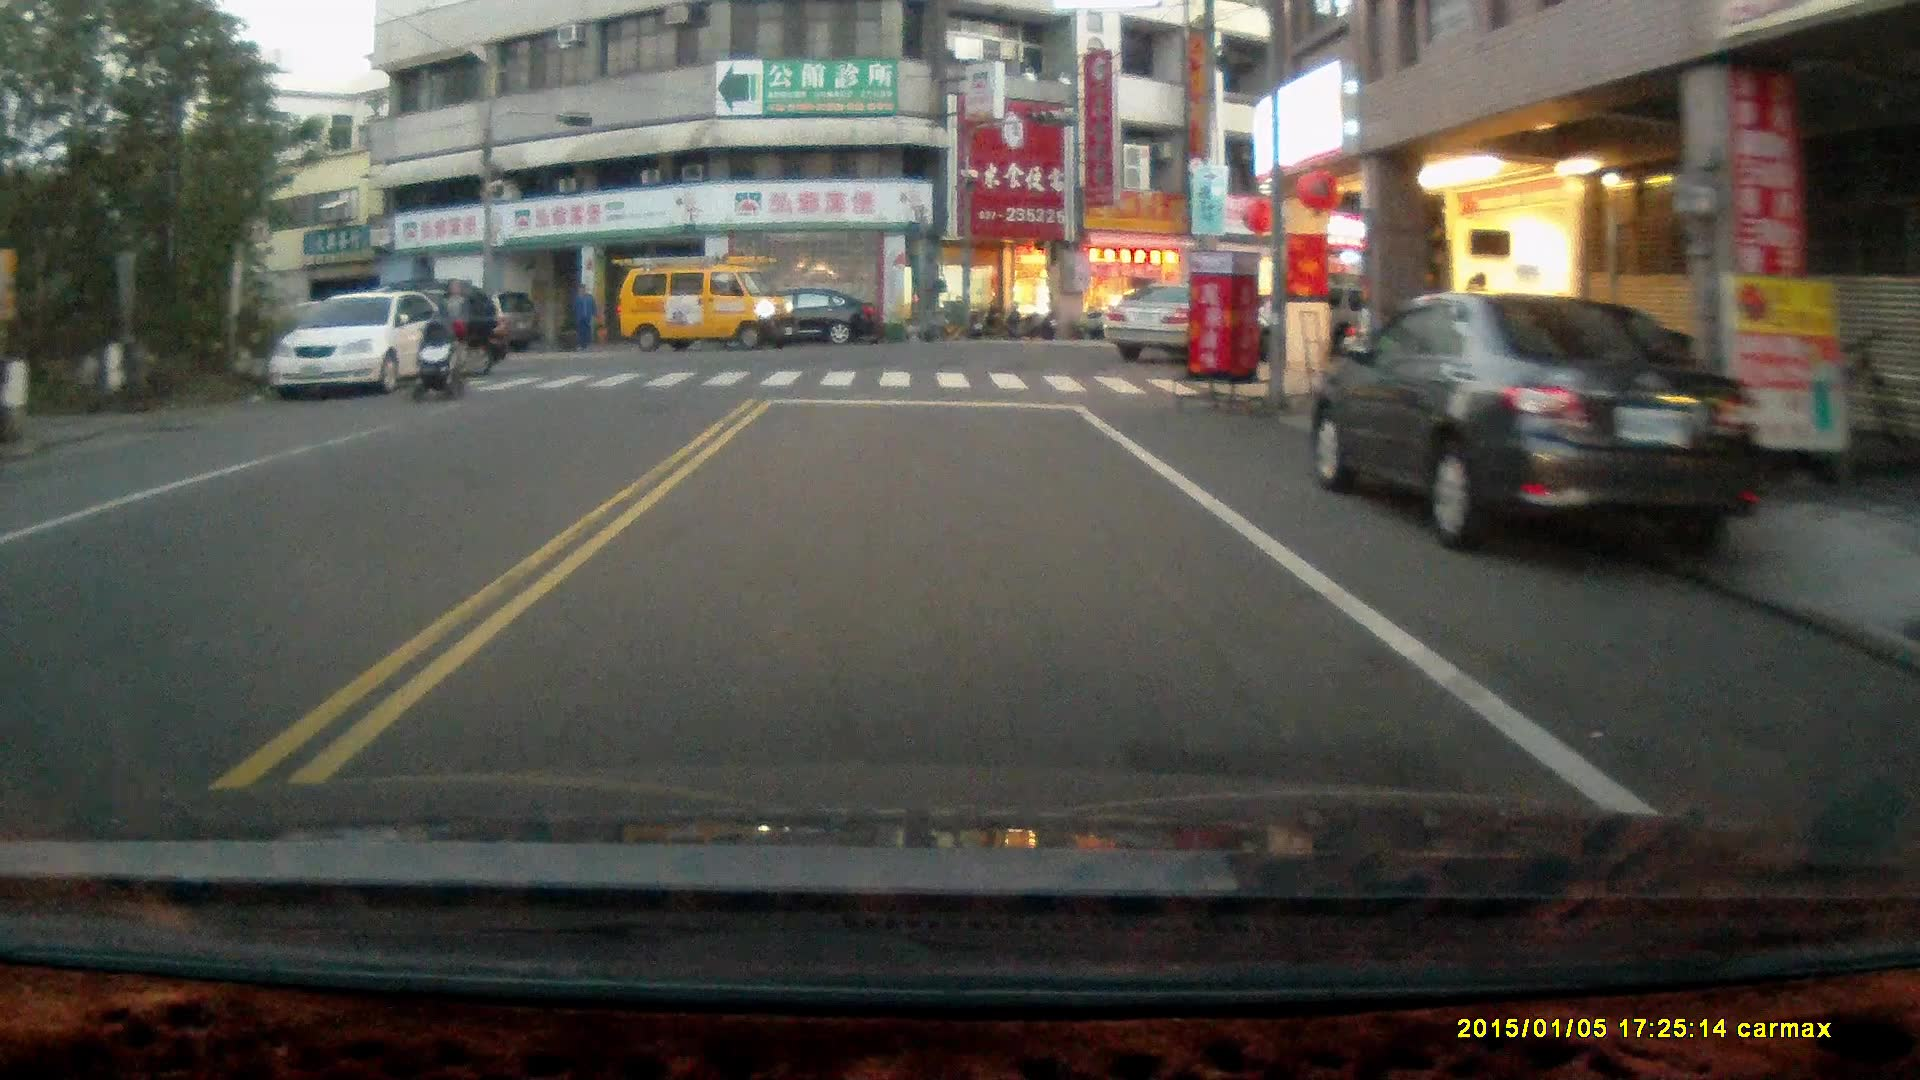pedestrian: (439, 276, 469, 378), (569, 282, 596, 350)
rider: (405, 318, 468, 402)
vehicle: (1311, 292, 1747, 559), (291, 279, 510, 380), (272, 291, 456, 401), (622, 254, 794, 350), (1102, 283, 1236, 363), (409, 286, 545, 361), (739, 287, 884, 352)
